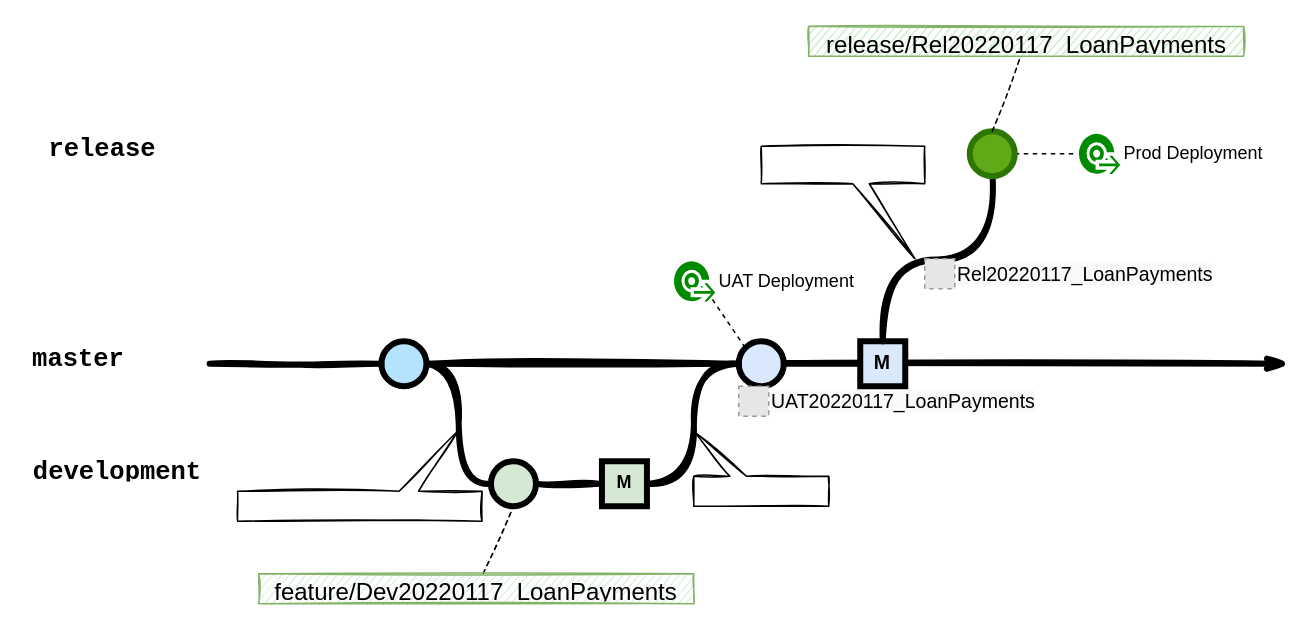
Some shapes in this 1311 by 630 pixel diagram are drawn without their labels. Grey dashed boxes stand in for pictures. The shapes that lost their labels are listed below. From the top down, each one's centre as x and y in pixels, then its label:
At point 842,202: "Prod Impl.".
At point 359,475: "New development start".
At point 760,468: "UAT Start".
